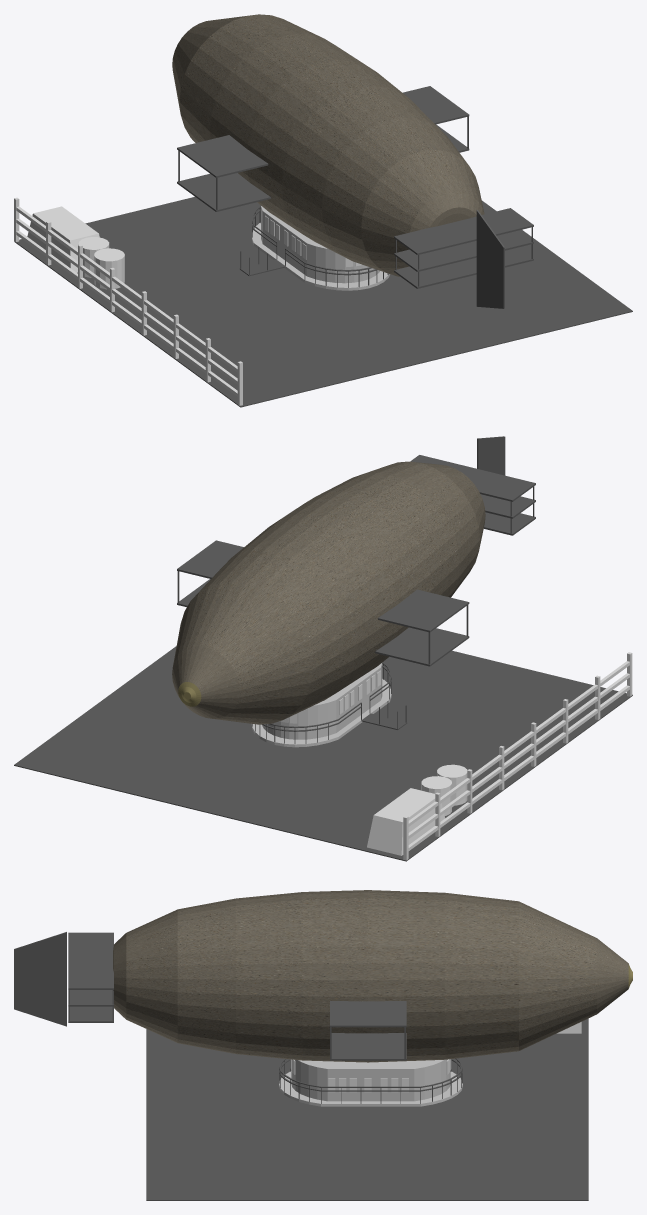
File: Zeppelin.fbx
The picture shows the model from 3 angles, top to bottom: view 1: azimuth 30°, elevation 25°; view 2: azimuth 150°, elevation 25°; view 3: azimuth 270°, elevation 25°; orthographic projection. The views are drawn at different scales.
Parts seen in each view (by area): view 1: Cube.026, Cylinder, Cube.023, Cube.028, Circle, Cube.020, Cube.022, Cube.021, Cube.029, Cube.027, Cylinder.002, Circle.001; view 2: Cube.026, Cylinder, Circle, Cube.028, Cube.020, Cube.023, Cube.029, Cube.021, Cube.027, Cube.022, Cylinder.002, Circle.001 (+1 smaller); view 3: Cylinder, Cube.026, Circle, Cube.023, Cube.022, Cube.021, Cube.020, Circle.001.
Boxes of the visible parts, x1=… form: Cube.026: x1=14, y1=197, x2=632, y2=407; Cylinder: x1=172, y1=14, x2=484, y2=276; Cube.023: x1=394, y1=208, x2=533, y2=288; Cube.028: x1=16, y1=206, x2=242, y2=398; Circle: x1=252, y1=206, x2=390, y2=290; Cube.020: x1=177, y1=86, x2=469, y2=177; Cube.022: x1=476, y1=210, x2=504, y2=308; Cube.021: x1=177, y1=124, x2=469, y2=211; Cube.029: x1=27, y1=206, x2=99, y2=272; Cube.027: x1=14, y1=197, x2=242, y2=405; Cylinder.002: x1=94, y1=248, x2=124, y2=289; Circle.001: x1=252, y1=205, x2=376, y2=275; Cube.026: x1=14, y1=646, x2=632, y2=861; Cylinder: x1=172, y1=461, x2=485, y2=724; Circle: x1=251, y1=663, x2=391, y2=747; Cube.028: x1=408, y1=661, x2=629, y2=850; Cube.020: x1=177, y1=540, x2=469, y2=632; Cube.023: x1=410, y1=455, x2=535, y2=535; Cube.029: x1=367, y1=788, x2=445, y2=855; Cube.021: x1=177, y1=579, x2=469, y2=666; Cube.027: x1=403, y1=652, x2=632, y2=860; Cube.022: x1=477, y1=436, x2=505, y2=475; Cylinder.002: x1=437, y1=764, x2=467, y2=805; Circle.001: x1=262, y1=662, x2=391, y2=731; Cylinder: x1=113, y1=890, x2=628, y2=1062; Cube.026: x1=146, y1=1018, x2=588, y2=1200; Circle: x1=279, y1=1059, x2=462, y2=1106; Cube.023: x1=68, y1=932, x2=113, y2=1022; Cube.022: x1=14, y1=932, x2=66, y2=1026; Cube.021: x1=330, y1=1033, x2=406, y2=1060; Cube.020: x1=330, y1=1001, x2=406, y2=1027; Circle.001: x1=279, y1=1058, x2=462, y2=1091.
Size of the model in its own units: 8003 by 4178 by 11191.
